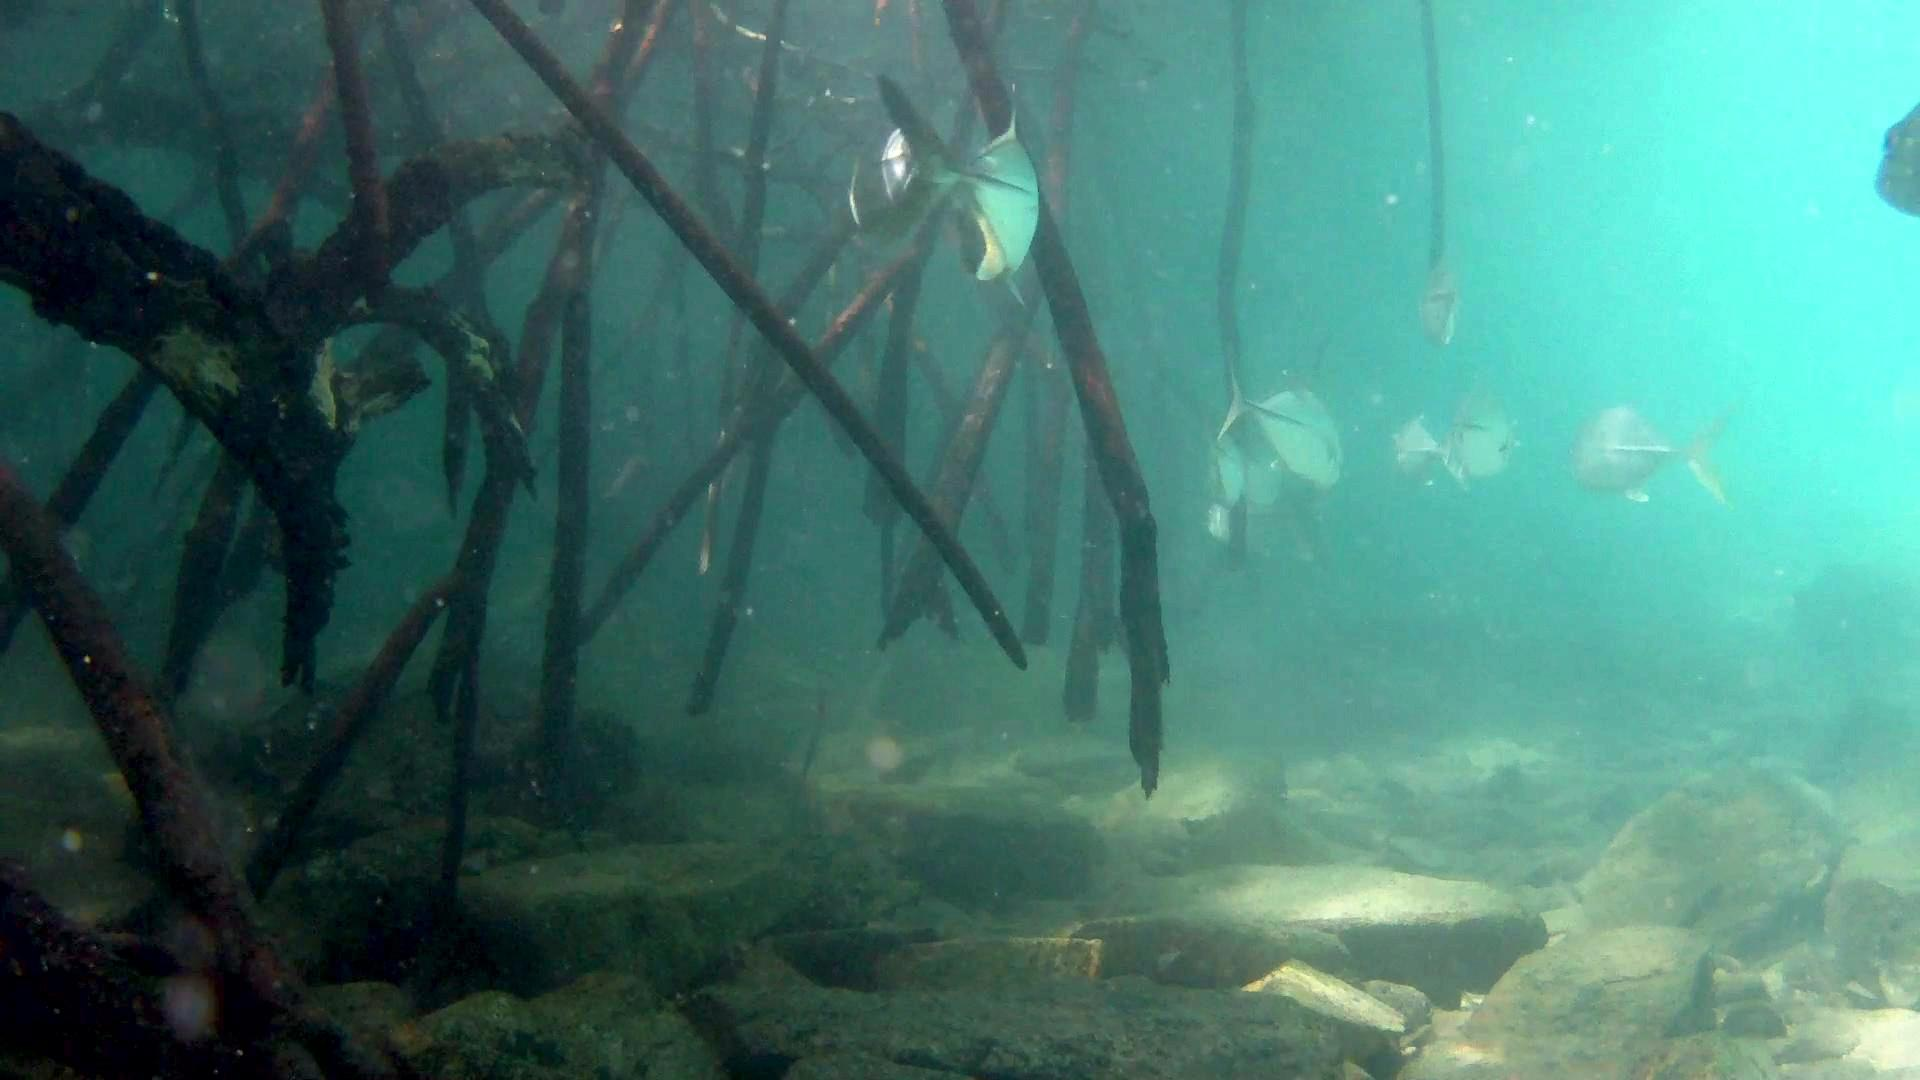caranx: (868, 69, 1046, 316), (1213, 344, 1349, 506)
